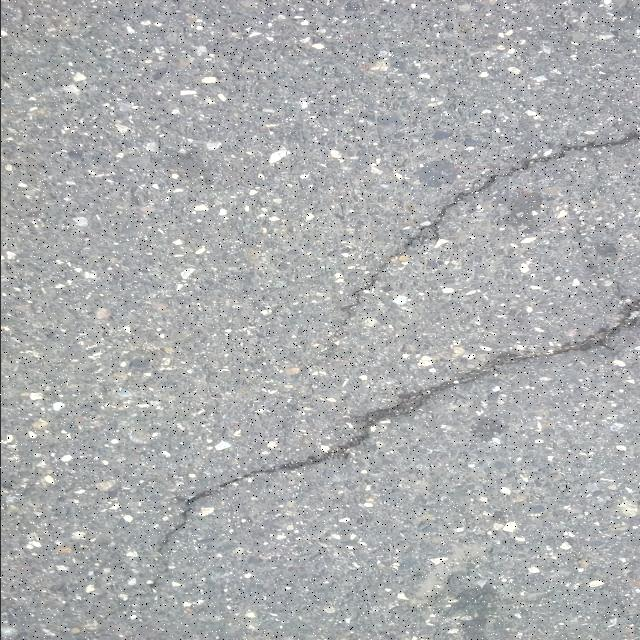Crack: (148, 298, 640, 594), (337, 134, 640, 326)
